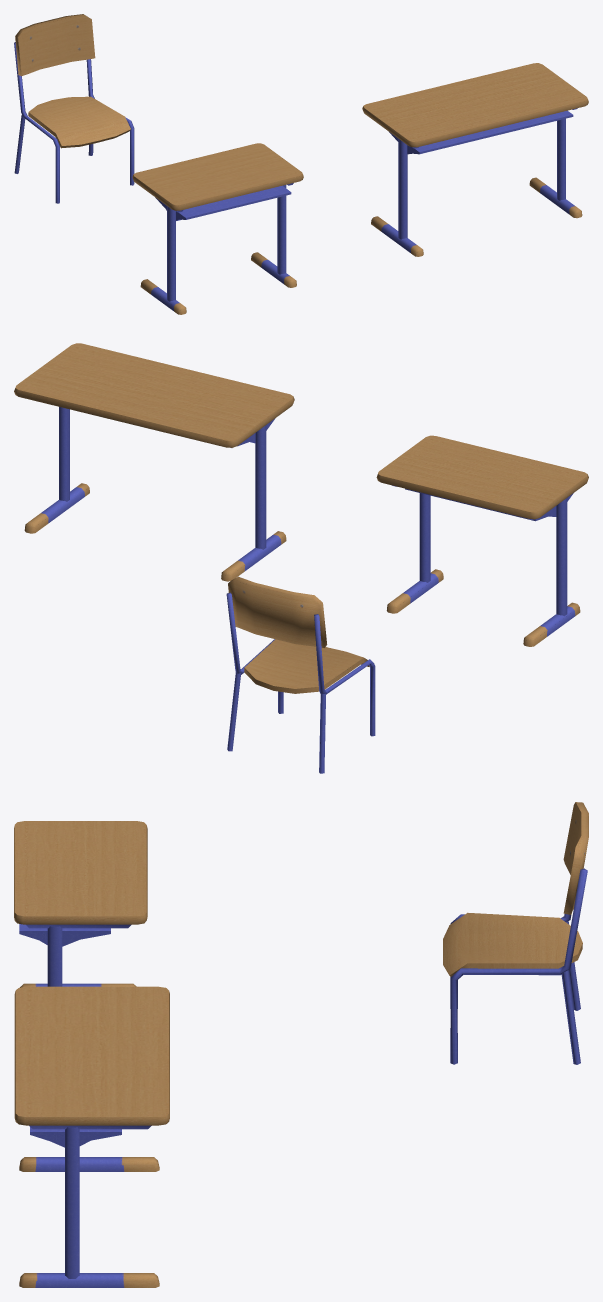
File: asientos.fbx
3 renders of one model, top to bottom at view 1: azimuth 30°, elevation 25°; view 2: azimuth 150°, elevation 25°; view 3: azimuth 270°, elevation 25°, orthographic. The views are drawn at different scales.
Visible parts, largest first — view 1: MOD_Pupitre_Profesor_Baked, MOD_Pupitre_Baked, MOD_Pupitre_Silla_Baked; view 2: MOD_Pupitre_Profesor_Baked, MOD_Pupitre_Baked, MOD_Pupitre_Silla_Baked; view 3: MOD_Pupitre_Profesor_Baked, MOD_Pupitre_Baked, MOD_Pupitre_Silla_Baked.
Part boxes in pixels (<box>): MOD_Pupitre_Profesor_Baked: <box>362,63,588,256</box>; MOD_Pupitre_Baked: <box>132,143,303,314</box>; MOD_Pupitre_Silla_Baked: <box>14,14,134,203</box>; MOD_Pupitre_Profesor_Baked: <box>14,343,294,581</box>; MOD_Pupitre_Baked: <box>376,435,588,646</box>; MOD_Pupitre_Silla_Baked: <box>226,576,375,773</box>; MOD_Pupitre_Profesor_Baked: <box>14,986,169,1287</box>; MOD_Pupitre_Baked: <box>14,821,147,987</box>; MOD_Pupitre_Silla_Baked: <box>443,802,588,1064</box>.
Bounding box in the file's own units: 324 × 106 × 258.
